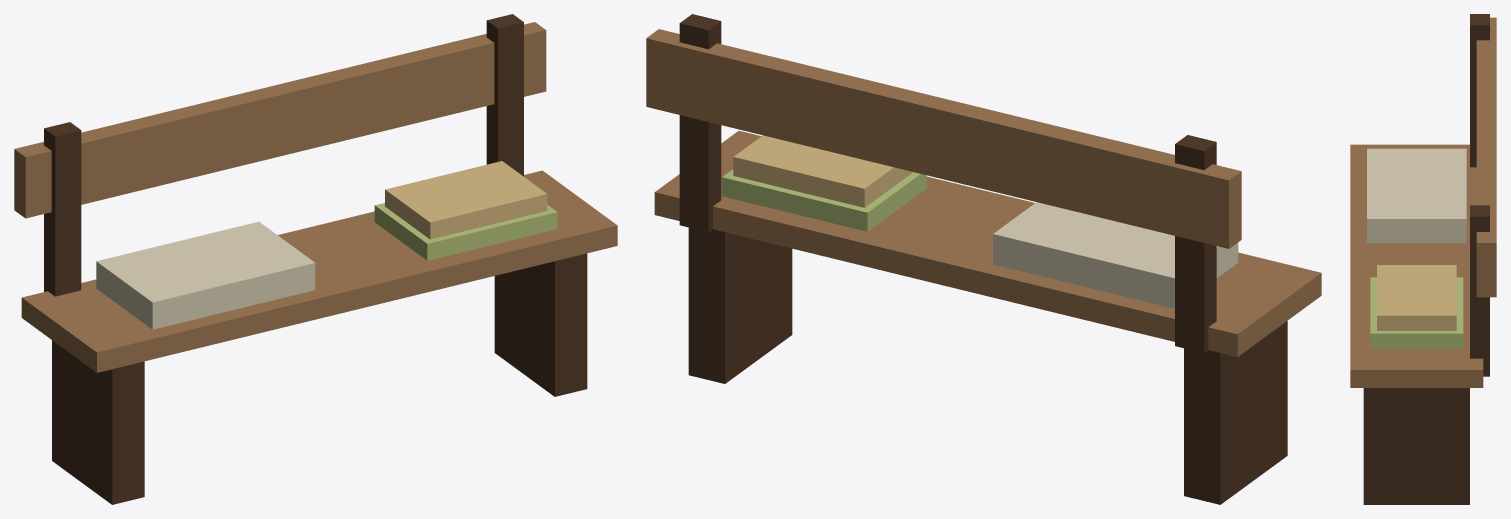
Rendered from terraza_banco.glb.
3 views of the same model, side by side, from view 1: azimuth 30°, elevation 25°; view 2: azimuth 150°, elevation 25°; view 3: azimuth 270°, elevation 25° (orthographic). The views are drawn at different scales.
Parts seen in each view (by area): view 1: terraza_banco; view 2: terraza_banco; view 3: terraza_banco.
Boxes of the visible parts, x1,y1,x2,y2 form: terraza_banco: (14,14,617,504); terraza_banco: (646,14,1321,504); terraza_banco: (1350,14,1496,504).
Bounding box in the file's own units: 1.6 × 0.95 × 0.44.
